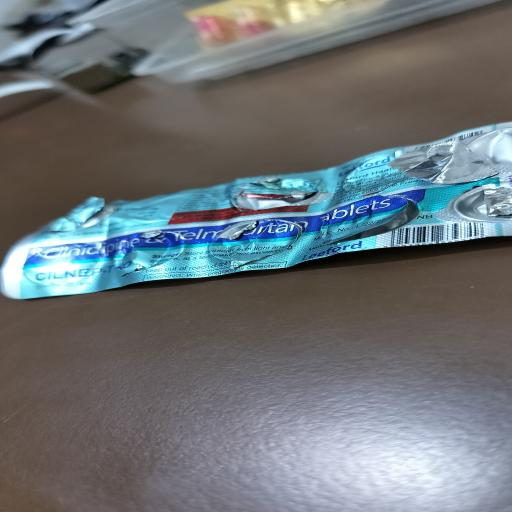cilnidipine: (36, 185, 414, 266)
medicine: (0, 126, 512, 304)
